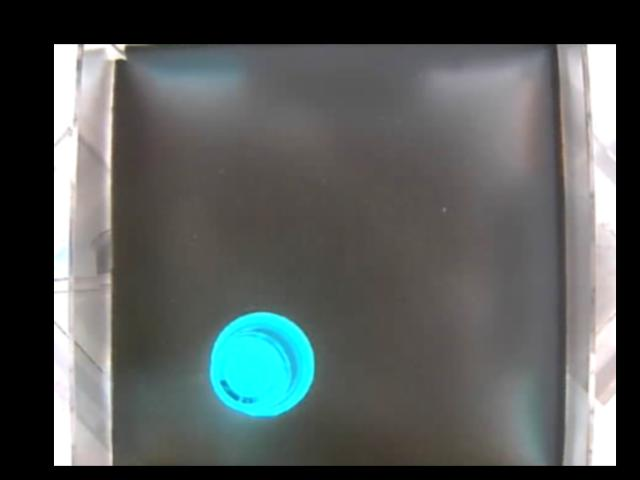Cup: (208, 308, 315, 417)
